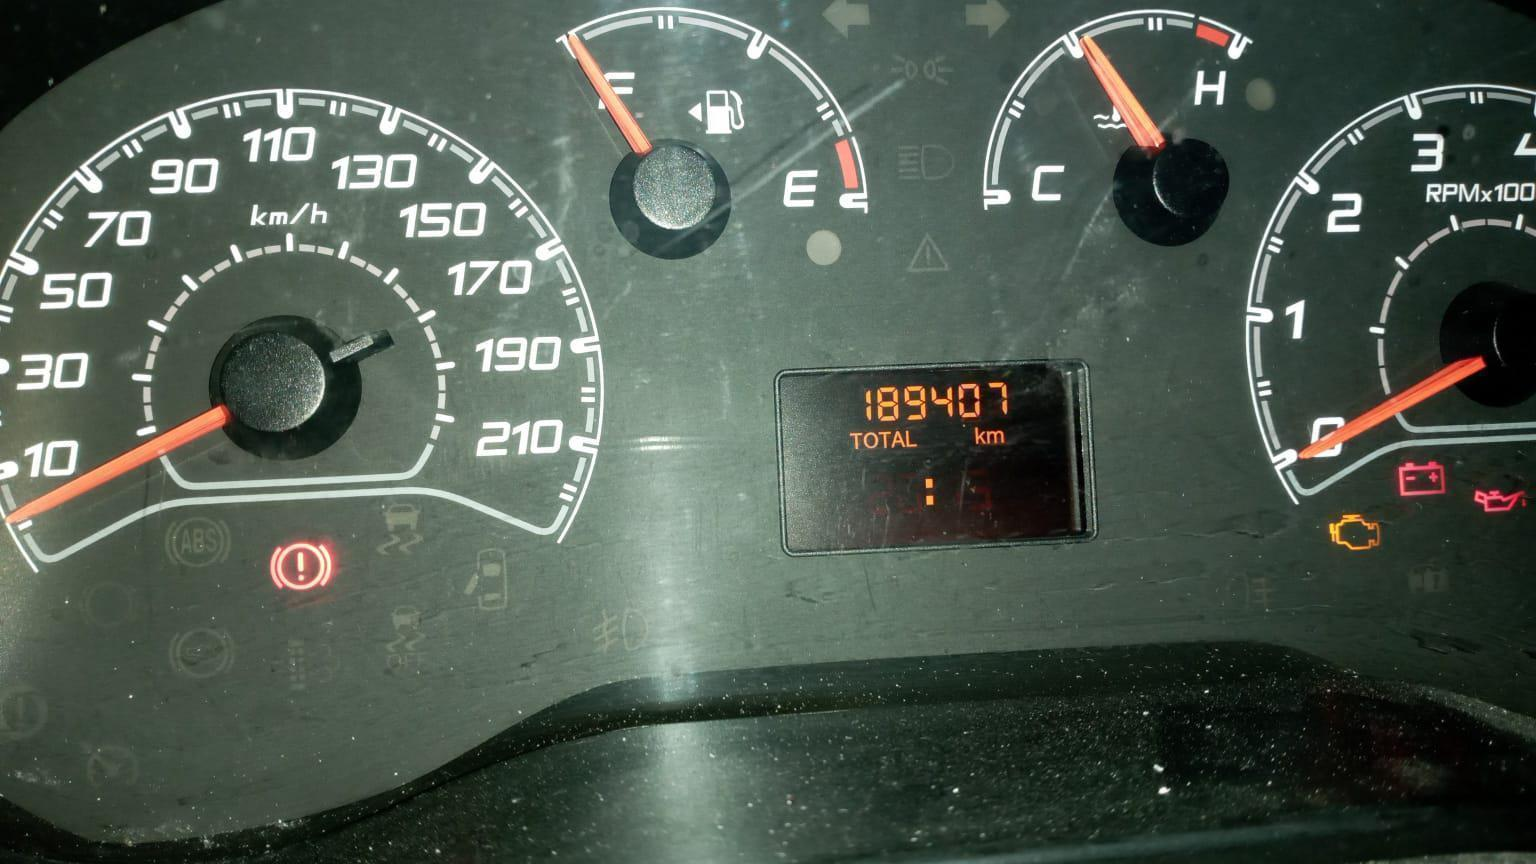0: (957, 382, 981, 418)
1: (865, 388, 872, 422)
4: (930, 384, 953, 417)
7: (987, 381, 1009, 416)
8: (876, 386, 900, 422)
9: (903, 384, 926, 420)
X: (986, 429, 1005, 445), (890, 430, 905, 449), (924, 477, 934, 506), (848, 433, 863, 450), (863, 431, 878, 449), (904, 429, 918, 447), (974, 426, 986, 445), (878, 431, 891, 448)
odometer: (772, 356, 1099, 559)
